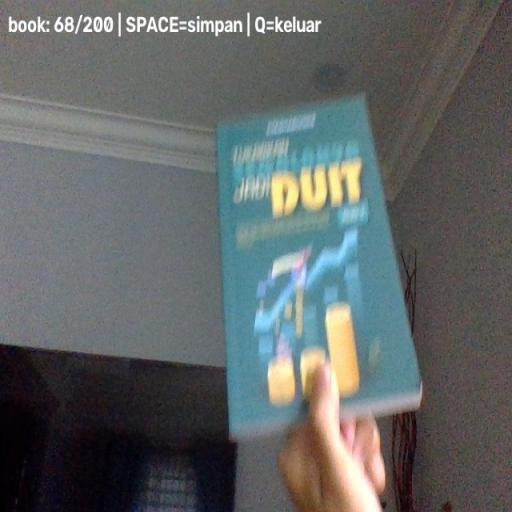Book: (215, 94, 425, 438)
